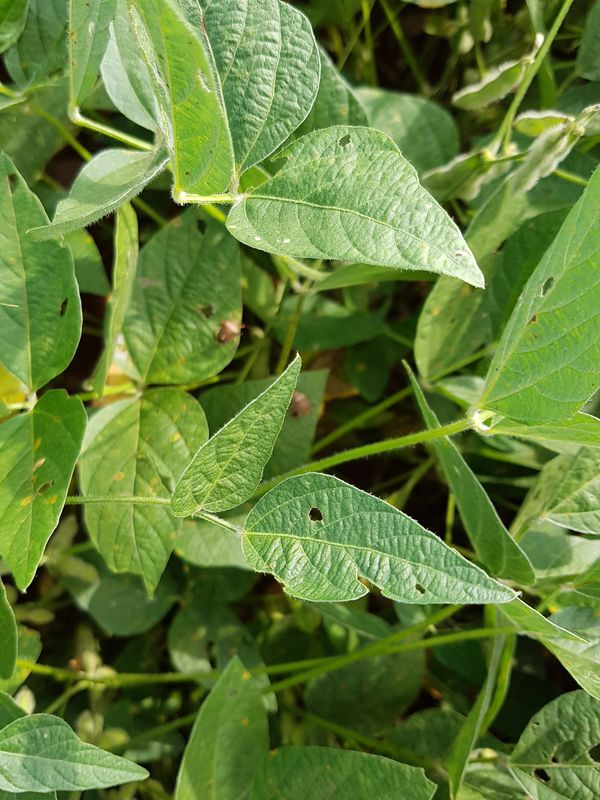Euschistus_heros_adulto: (279, 380, 322, 423), (210, 311, 247, 349)
